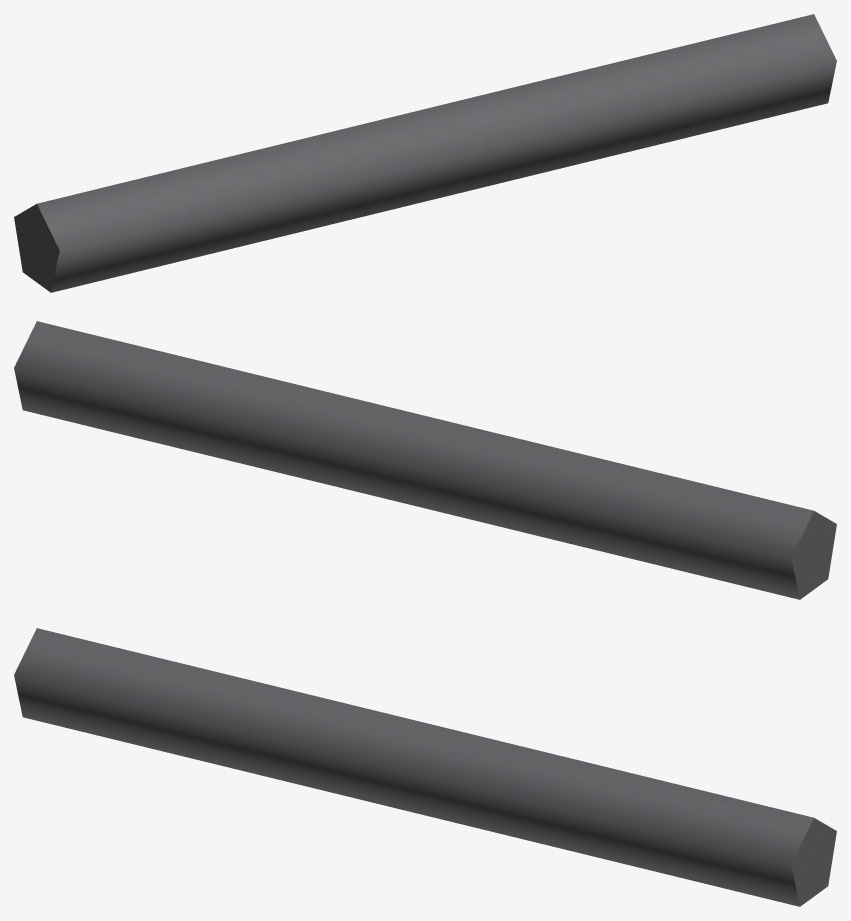
File: SM_railing_b_100.fbx
3 renders of one model, top to bottom at view 1: azimuth 30°, elevation 25°; view 2: azimuth 150°, elevation 25°; view 3: azimuth 330°, elevation 25°, orthographic.
Visible parts, largest first — view 1: roomBlocks_railingb_200; view 2: roomBlocks_railingb_200; view 3: roomBlocks_railingb_200.
Part boxes in pixels (box(x1,y1,x2,y2)): roomBlocks_railingb_200: box(14, 14, 836, 292); roomBlocks_railingb_200: box(14, 321, 836, 599); roomBlocks_railingb_200: box(14, 628, 836, 906).
Size of the model in its own units: 1 by 0.0969 by 0.1019.
